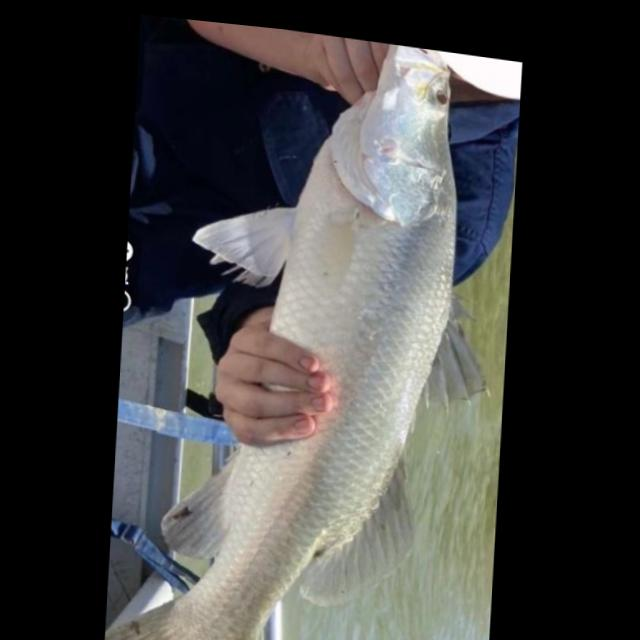Seabass: (103, 12, 512, 640)
